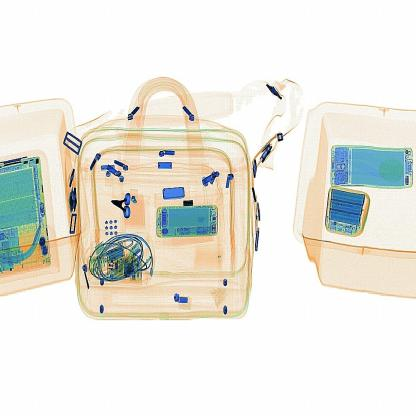gun: (104, 187, 140, 218)
